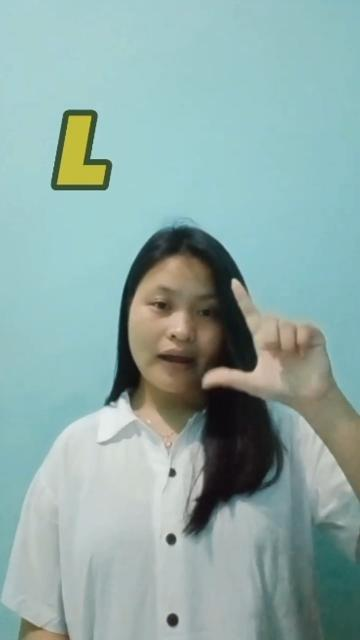L: (200, 276, 334, 408)
